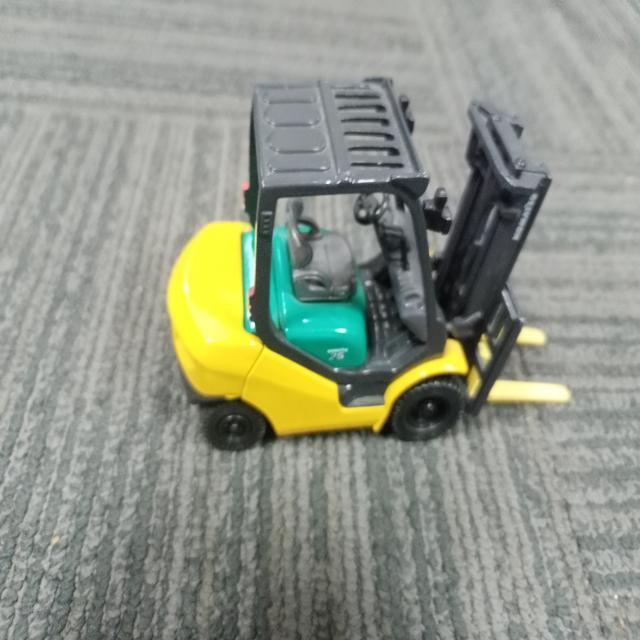forklift: (164, 73, 555, 443)
